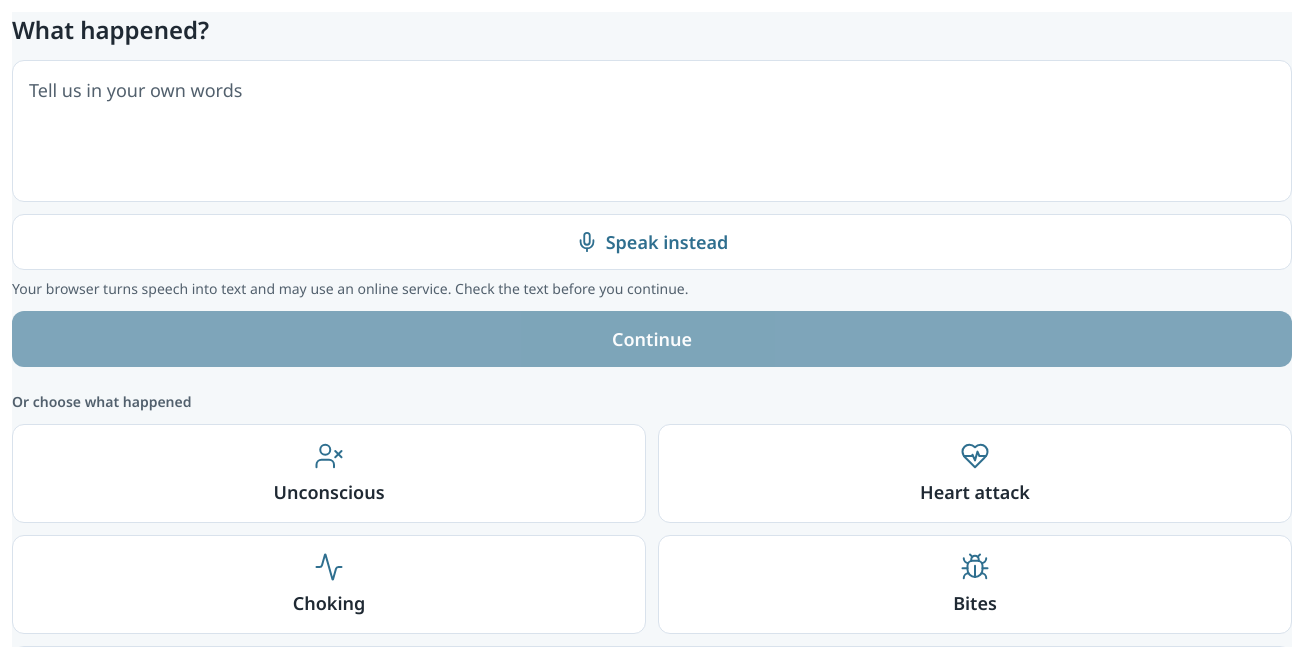
speech input › keeps listening in the current language if the language check fails (offline)
Click the button "Speak instead" at x=652, y=242, box [12,214,1292,270]
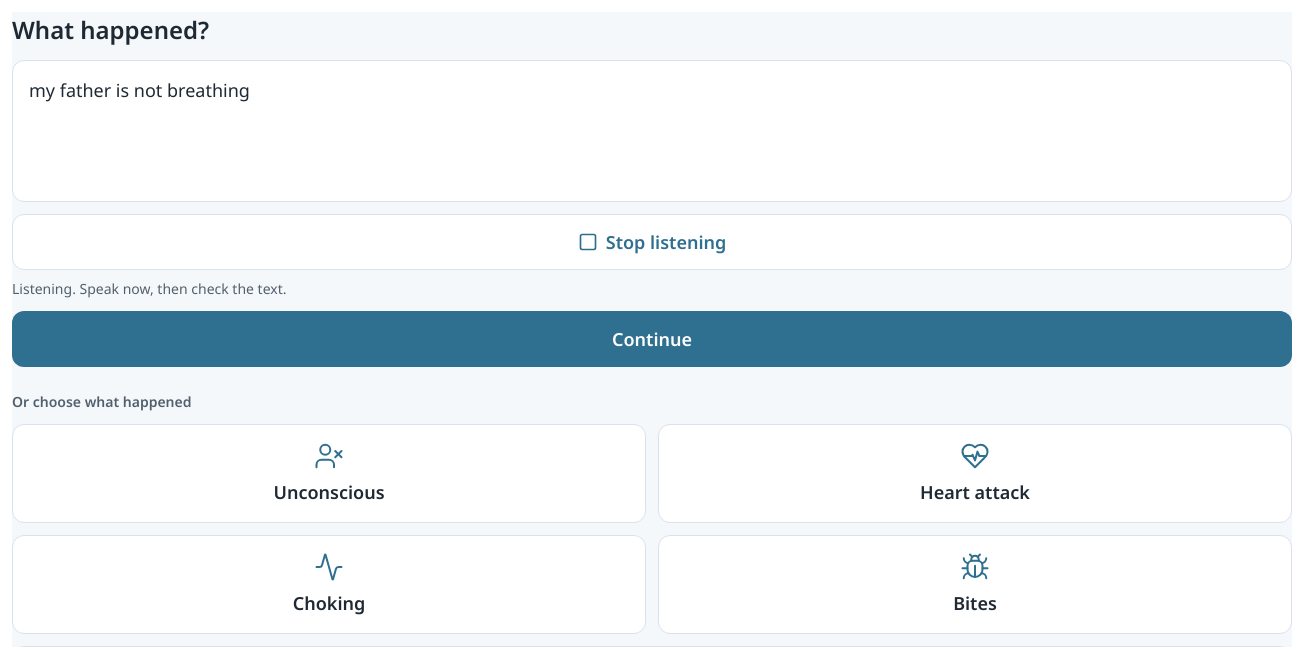
Expected: the text box holds "my father is not breathing", [12,60,1292,202]
